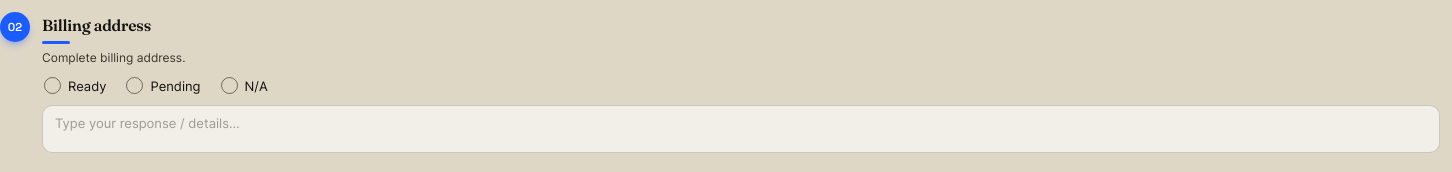
QuestionCard › clears the answer only when asked
Type "Draft" into the text box labelled "Billing address".
click(741, 129); type("Draft")  # box [42,105,1440,153]
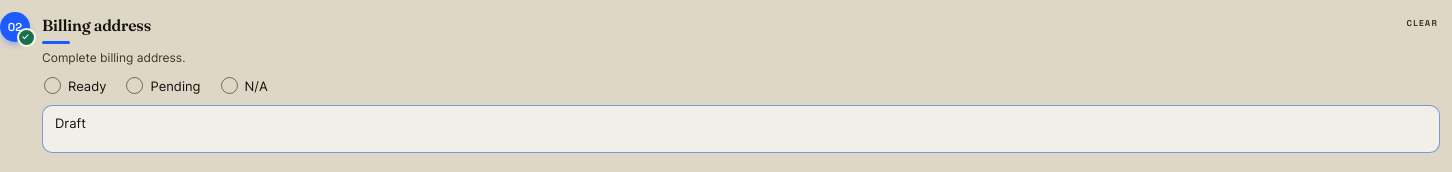
Click the button with aria-label "clear the answer".
click(1419, 23)  # box [1398,13,1440,33]
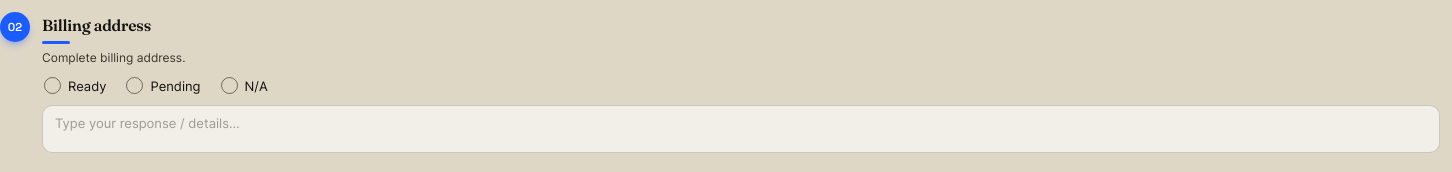
Check: the text box labelled "Billing address" is empty, box [42,105,1440,153]
